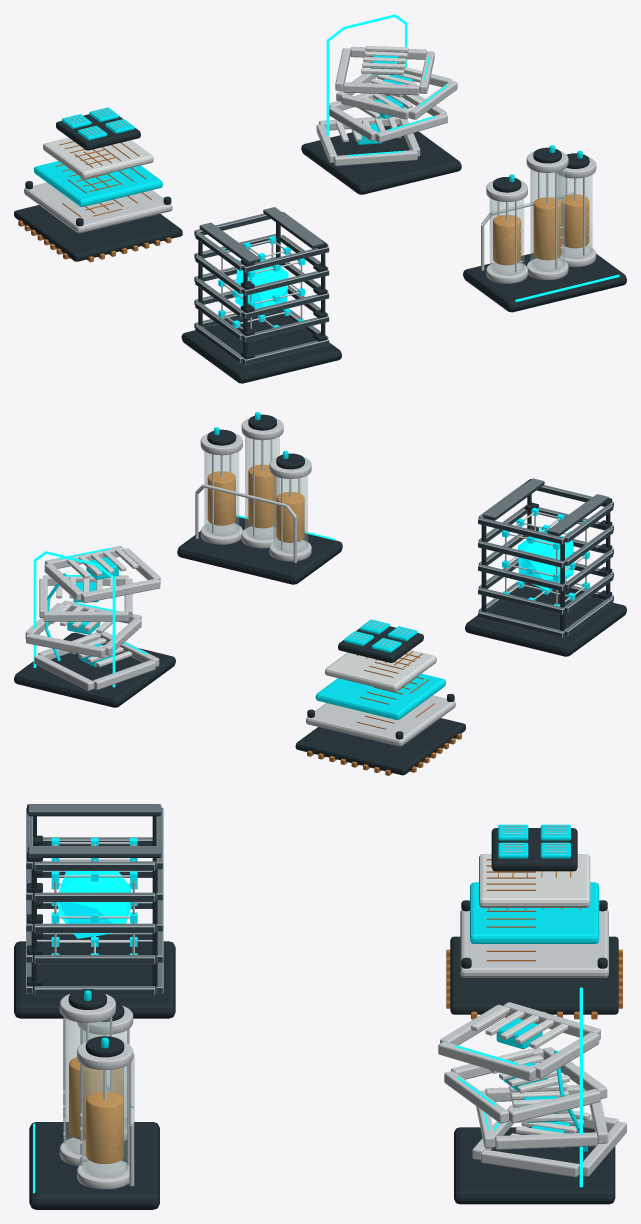
Rendered from frontis-studies.glb.
The picture shows the model from 3 angles, top to bottom: view 1: azimuth 30°, elevation 25°; view 2: azimuth 150°, elevation 25°; view 3: azimuth 270°, elevation 25°; orthographic projection. The views are drawn at different scales.
Visible parts, largest first — view 1: AI_Precision_Base, EVOLUTION_Precision_Base, CHIP_Exploded_Layer_00, BIO_Laboratory_Cradle, CHIP_Exploded_Layer_01, BIO_Clear_Vessel_01, CHIP_Exploded_Layer_02, CHIP_Exploded_Layer_03, BIO_Clear_Vessel_00, BIO_Clear_Vessel_02, BIO_Amber_Medium_01, BIO_Amber_Medium_02 (+21 smaller); view 2: AI_Precision_Base, CHIP_Exploded_Layer_00, BIO_Laboratory_Cradle, EVOLUTION_Precision_Base, CHIP_Exploded_Layer_01, CHIP_Exploded_Layer_02, BIO_Clear_Vessel_01, CHIP_Exploded_Layer_03, BIO_Clear_Vessel_02, BIO_Clear_Vessel_00, BIO_Amber_Medium_01, AI_Faceted_Intelligence_Core (+23 smaller); view 3: EVOLUTION_Precision_Base, AI_Precision_Base, BIO_Laboratory_Cradle, CHIP_Exploded_Layer_00, CHIP_Exploded_Layer_01, CHIP_Exploded_Layer_02, BIO_Clear_Vessel_02, CHIP_Exploded_Layer_03, AI_Faceted_Intelligence_Core, BIO_Amber_Medium_02, BIO_Clear_Vessel_01, CHIP_Exploded_Layer_04 (+29 smaller).
Part boxes in pixels (bbox=[...]): AI_Precision_Base: bbox=[181, 311, 341, 383]; EVOLUTION_Precision_Base: bbox=[301, 125, 461, 194]; CHIP_Exploded_Layer_00: bbox=[14, 205, 182, 261]; BIO_Laboratory_Cradle: bbox=[463, 253, 626, 312]; CHIP_Exploded_Layer_01: bbox=[24, 182, 172, 233]; BIO_Clear_Vessel_01: bbox=[530, 169, 564, 271]; CHIP_Exploded_Layer_02: bbox=[34, 161, 162, 206]; CHIP_Exploded_Layer_03: bbox=[43, 137, 153, 178]; BIO_Clear_Vessel_00: bbox=[489, 198, 524, 275]; BIO_Clear_Vessel_02: bbox=[558, 175, 592, 258]; BIO_Amber_Medium_01: bbox=[533, 197, 561, 260]; BIO_Amber_Medium_02: bbox=[561, 194, 589, 248]; AI_Precision_Base: bbox=[465, 583, 626, 656]; CHIP_Exploded_Layer_00: bbox=[295, 718, 465, 775]; BIO_Laboratory_Cradle: bbox=[177, 516, 342, 584]; EVOLUTION_Precision_Base: bbox=[14, 632, 175, 707]; CHIP_Exploded_Layer_01: bbox=[306, 695, 455, 746]; CHIP_Exploded_Layer_02: bbox=[315, 673, 445, 719]; BIO_Clear_Vessel_01: bbox=[245, 436, 279, 539]; CHIP_Exploded_Layer_03: bbox=[325, 650, 436, 691]; BIO_Clear_Vessel_02: bbox=[204, 451, 239, 535]; BIO_Clear_Vessel_00: bbox=[273, 475, 307, 552]; BIO_Amber_Medium_01: bbox=[248, 464, 276, 528]; AI_Faceted_Intelligence_Core: bbox=[518, 528, 573, 591]; EVOLUTION_Precision_Base: bbox=[454, 1127, 615, 1204]; AI_Precision_Base: bbox=[14, 941, 175, 1018]; BIO_Laboratory_Cradle: bbox=[29, 1122, 159, 1209]; CHIP_Exploded_Layer_00: bbox=[450, 936, 618, 1014]; CHIP_Exploded_Layer_01: bbox=[460, 909, 608, 977]; CHIP_Exploded_Layer_02: bbox=[470, 882, 599, 943]; BIO_Clear_Vessel_02: bbox=[81, 1065, 128, 1177]; CHIP_Exploded_Layer_03: bbox=[479, 854, 590, 907]; AI_Faceted_Intelligence_Core: bbox=[57, 871, 131, 938]; BIO_Amber_Medium_02: bbox=[86, 1091, 123, 1163]; BIO_Clear_Vessel_01: bbox=[64, 1018, 110, 1154]; CHIP_Exploded_Layer_04: bbox=[491, 828, 577, 871].
Size of the model in its own units: 9.11 by 2.98 by 8.92.
